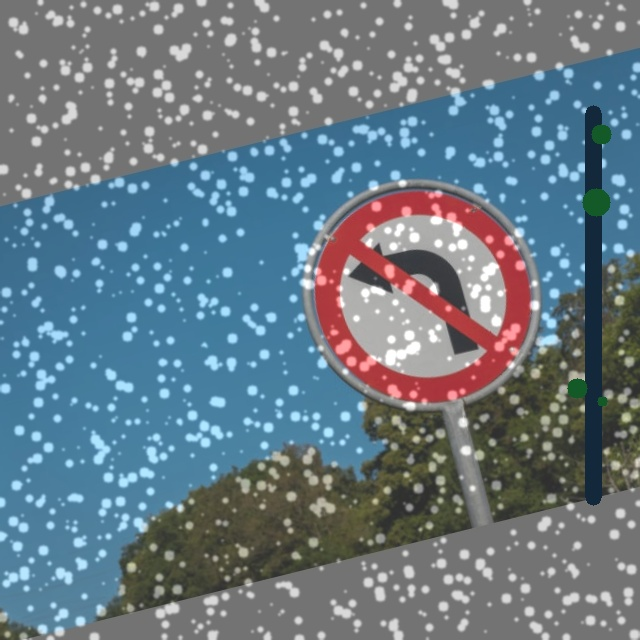Left_Turn_Prohibited: (283, 162, 564, 431)
